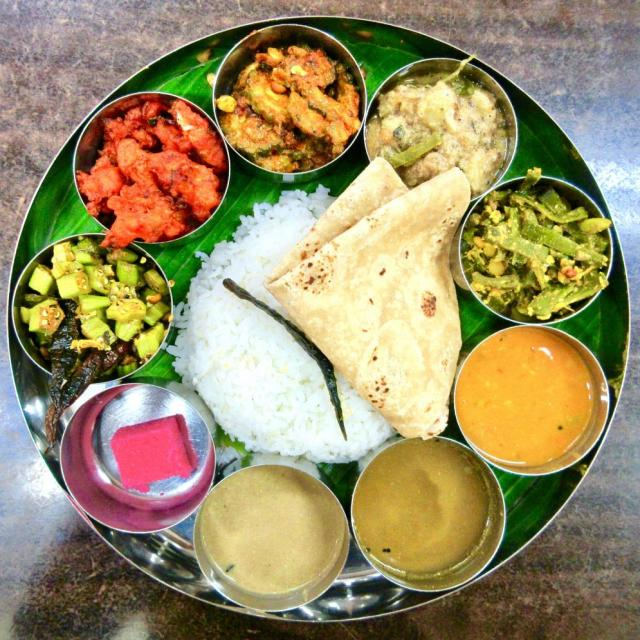veg meals: (4, 8, 640, 626)
